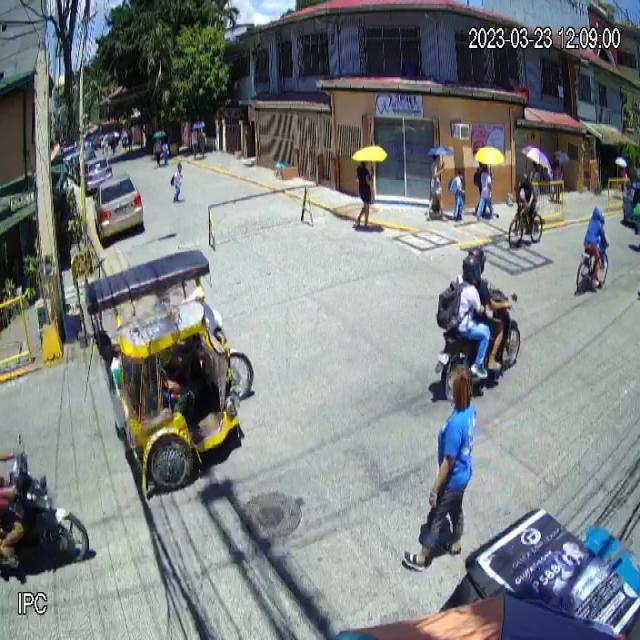Car: (94, 173, 143, 243)
Motorcycle: (8, 428, 90, 568), (434, 284, 522, 402)
Tricycle: (86, 249, 256, 490)
